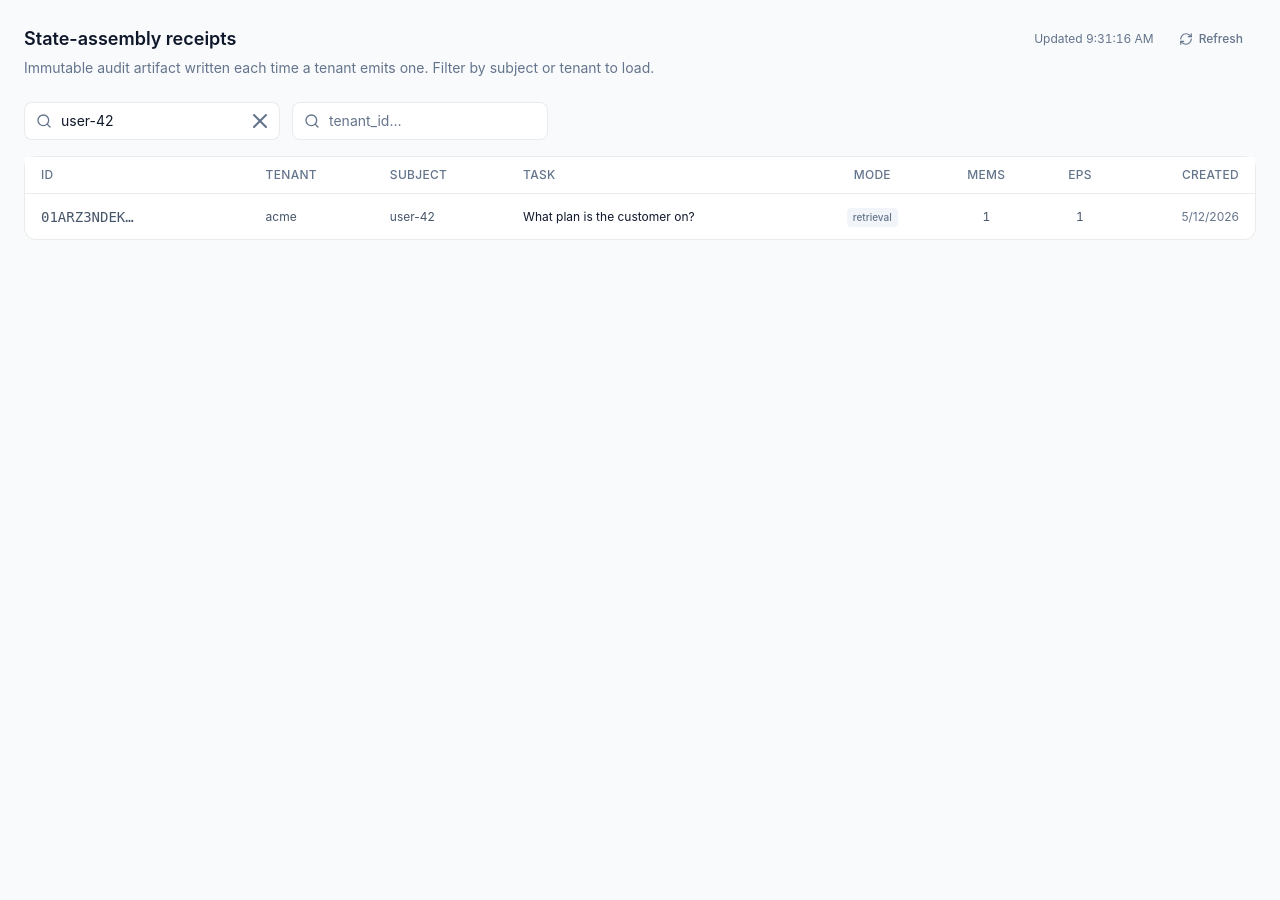
ReceiptsPage — replay button (v0.9 #159 / #160) › shows the replay button when the receipt has a policy snapshot
Click the text "What plan is the customer on".
click(640, 216)  # box [25,194,1255,239]
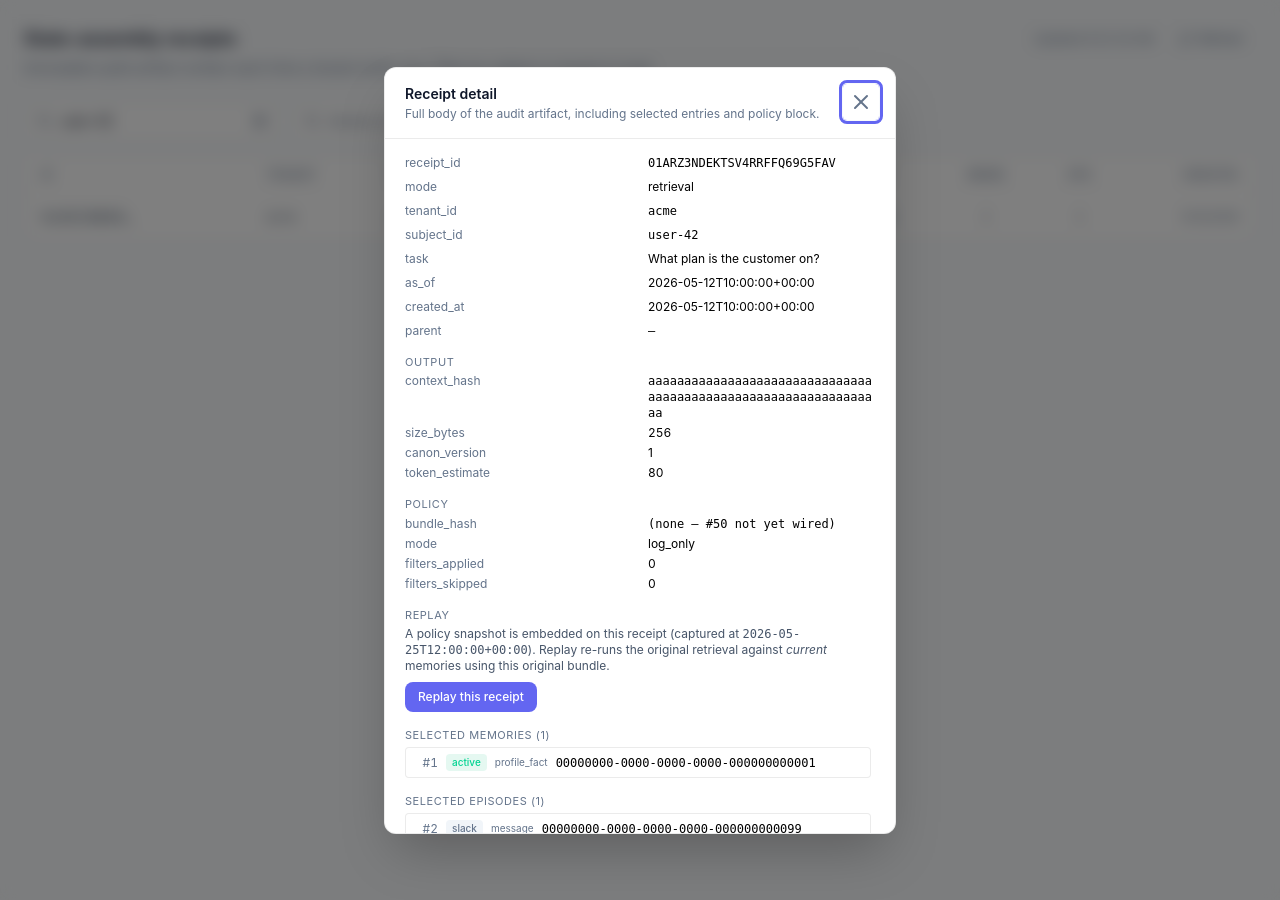
Check: the button "Replay this receipt" is shown, box [405,682,537,712]
